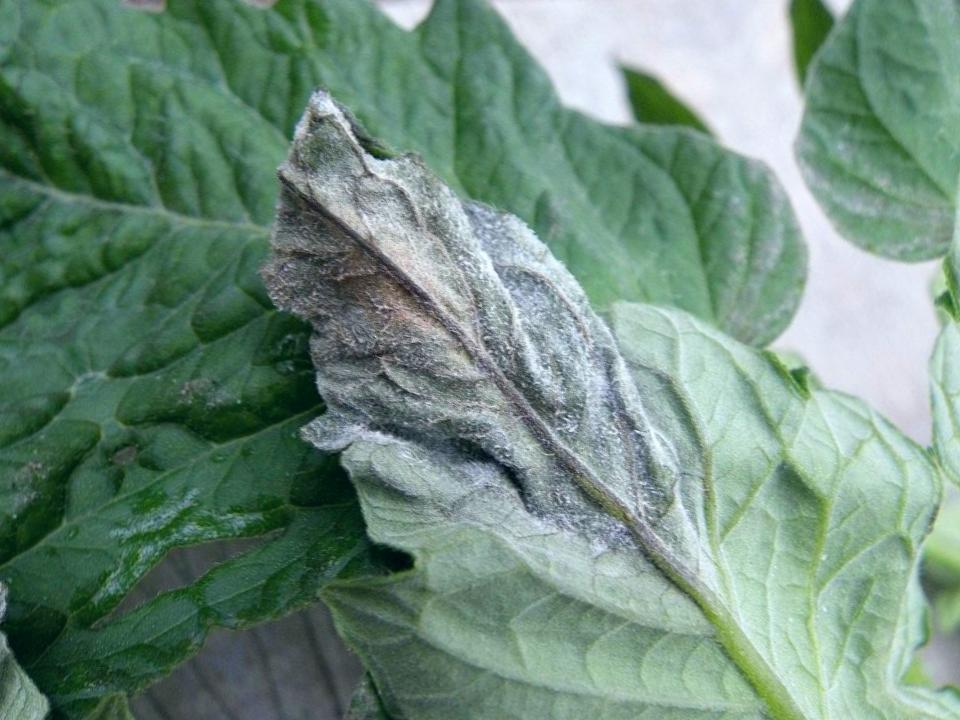Tomato leaf late blight: (106, 0, 960, 720)
